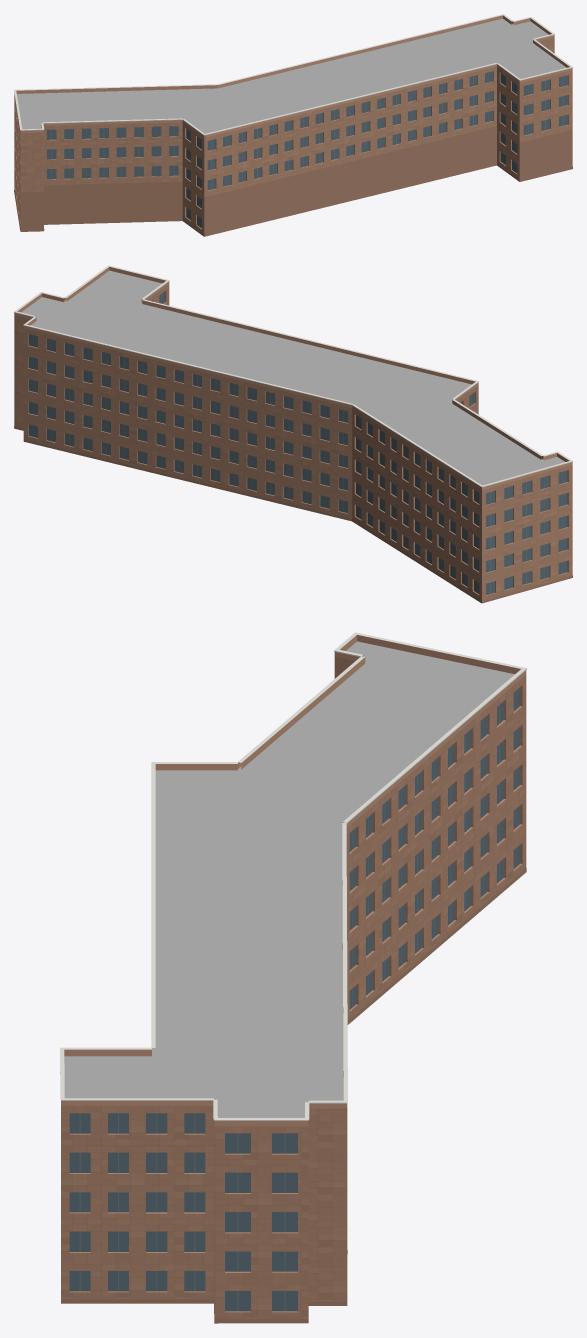
3 renders of one model, top to bottom at view 1: azimuth 30°, elevation 25°; view 2: azimuth 150°, elevation 25°; view 3: azimuth 270°, elevation 25°, orthographic. The views are drawn at different scales.
Parts seen in each view (by area): view 1: xavier__wall, xavier__roof, xavier__base, xavier__glass, xavier__parapet, xavier__trim, xavier__frame; view 2: xavier__wall, xavier__roof, xavier__glass, xavier__parapet, xavier__trim, xavier__frame, xavier__base; view 3: xavier__roof, xavier__wall, xavier__glass, xavier__trim, xavier__parapet, xavier__base, xavier__frame.
Part boxes in pixels (x1,y1,x2,y2): xavier__wall: (14, 37, 572, 236); xavier__roof: (17, 18, 566, 133); xavier__base: (14, 126, 572, 236); xavier__glass: (47, 71, 567, 228); xavier__parapet: (16, 15, 572, 138); xavier__trim: (14, 14, 572, 135); xavier__frame: (51, 72, 563, 226); xavier__wall: (14, 284, 572, 602); xavier__roof: (21, 270, 564, 485); xavier__glass: (28, 291, 567, 594); xavier__parapet: (14, 267, 572, 490); xavier__trim: (14, 265, 572, 487); xavier__frame: (33, 294, 562, 593); xavier__base: (14, 426, 572, 603); xavier__roof: (64, 641, 514, 1117); xavier__wall: (61, 657, 526, 1318); xavier__glass: (69, 687, 520, 1311); xavier__trim: (60, 632, 526, 1120); xavier__parapet: (61, 635, 526, 1126); xavier__base: (61, 868, 526, 1323); xavier__frame: (79, 691, 516, 1311).
Bounding box in the file's own units: 95.51 × 18.6 × 38.64.
7 materials, 1 textured.
